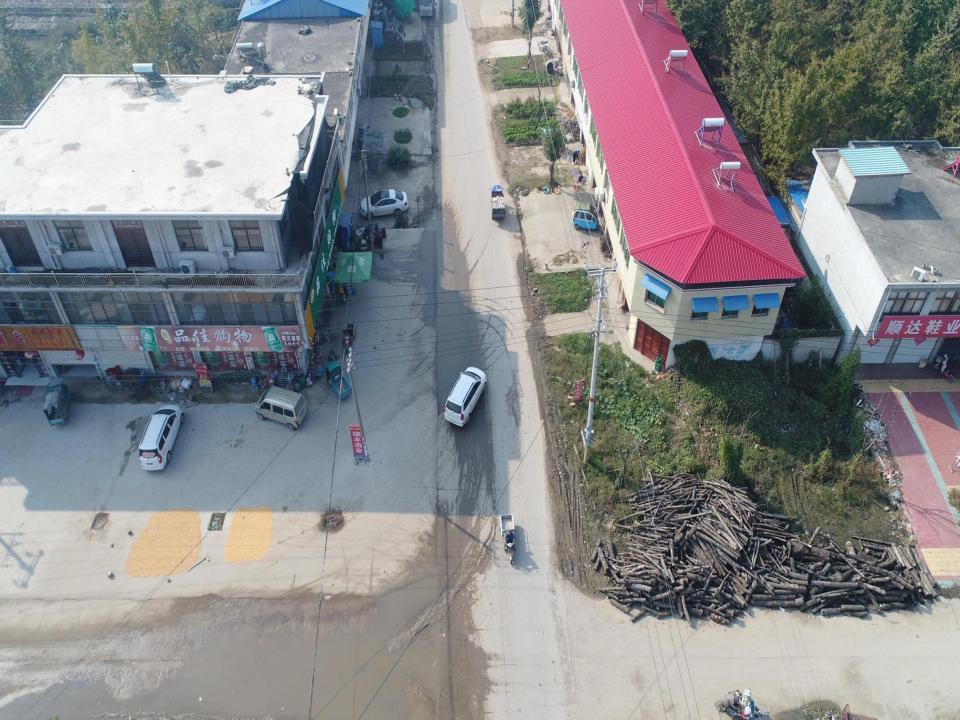bus: (418, 0, 434, 18)
car: (139, 403, 184, 472), (443, 365, 487, 428), (357, 188, 409, 220)
truck: (490, 186, 505, 222)
van: (253, 384, 310, 430), (573, 203, 599, 230)
